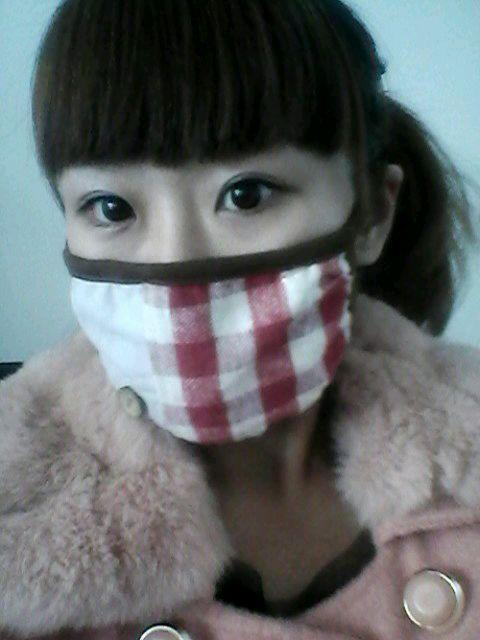OK: (53, 134, 357, 438)
